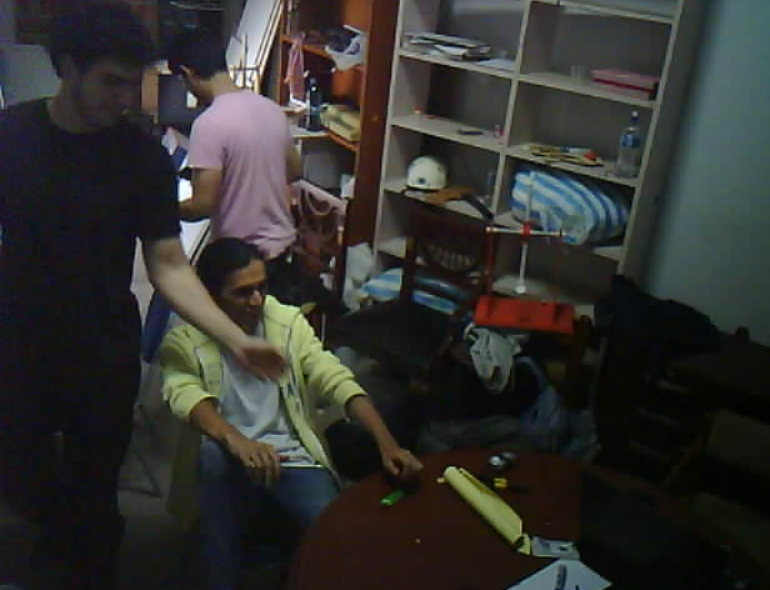person: (0, 8, 183, 590), (160, 239, 443, 590), (155, 11, 316, 283)
